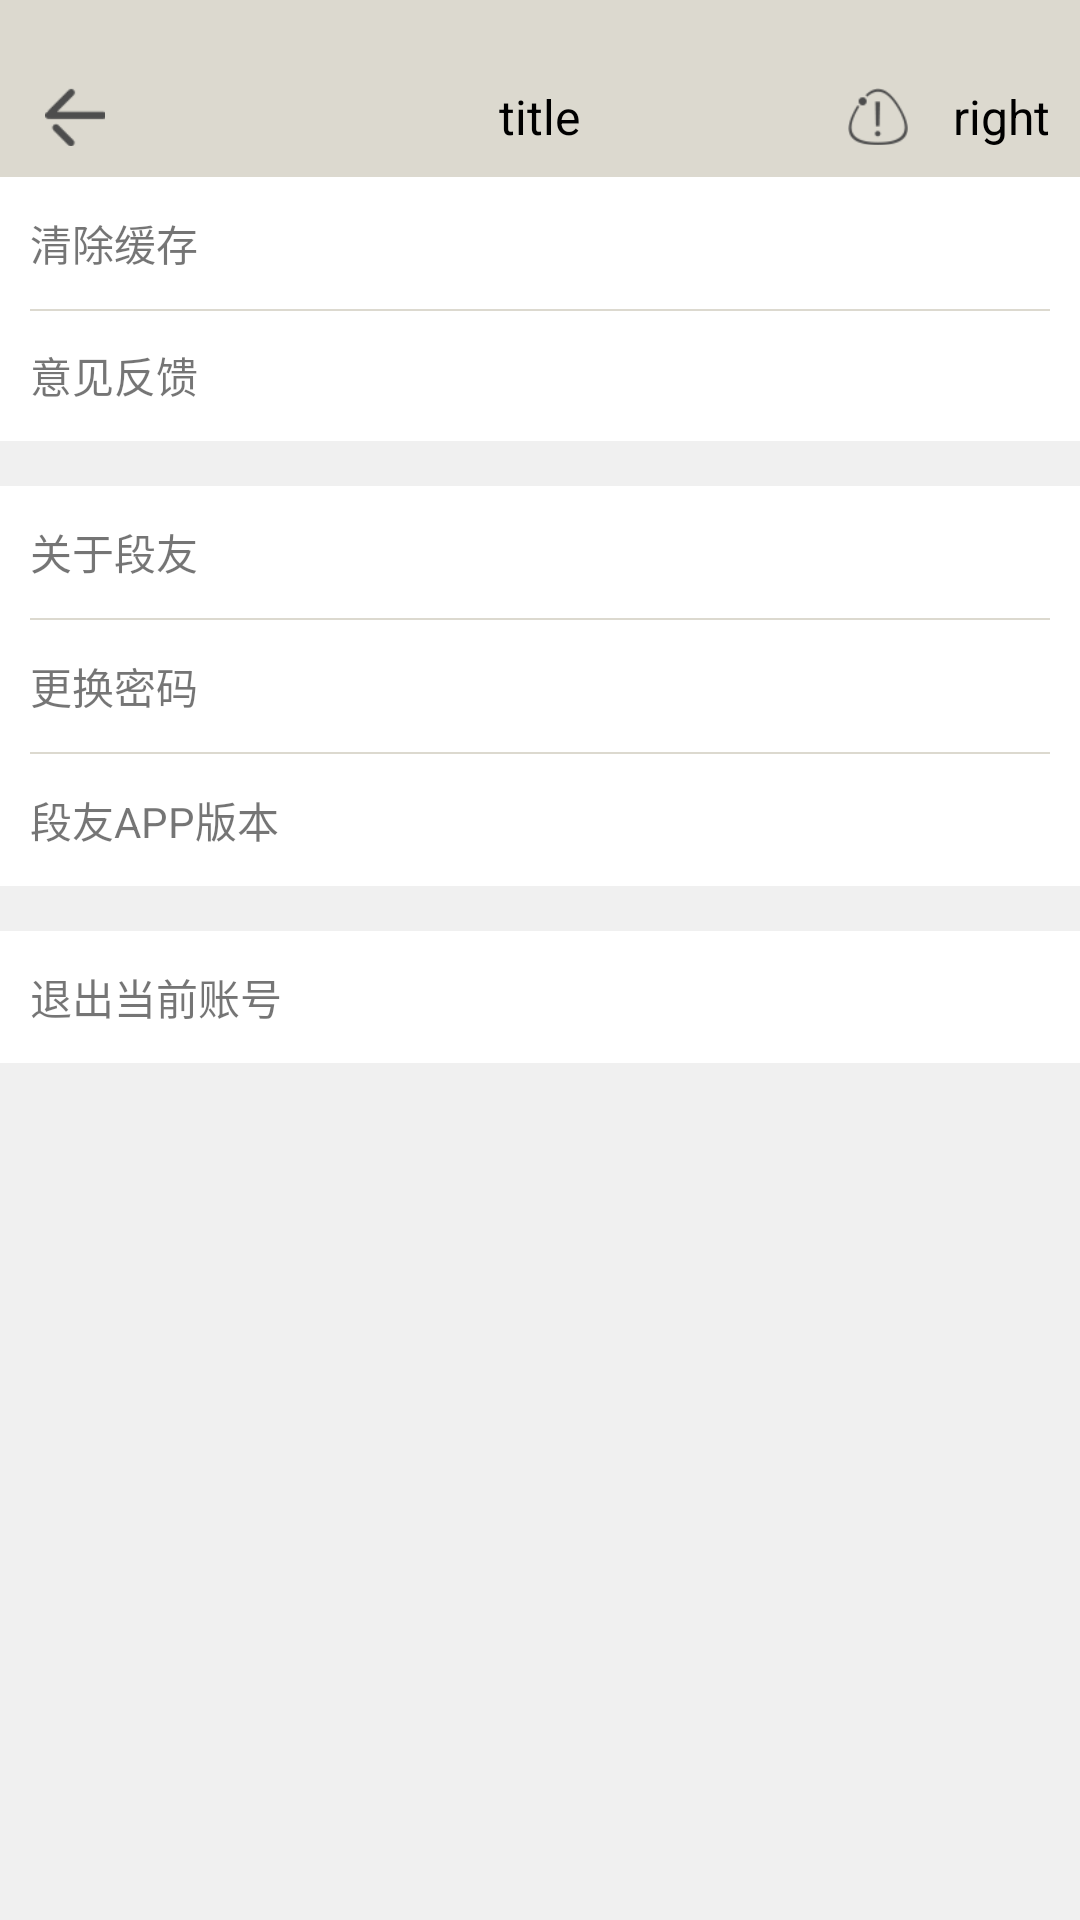

Icons on this 1080w x 1920h Android screen, each with the point to tap as (x,y):
back: (75,117)
